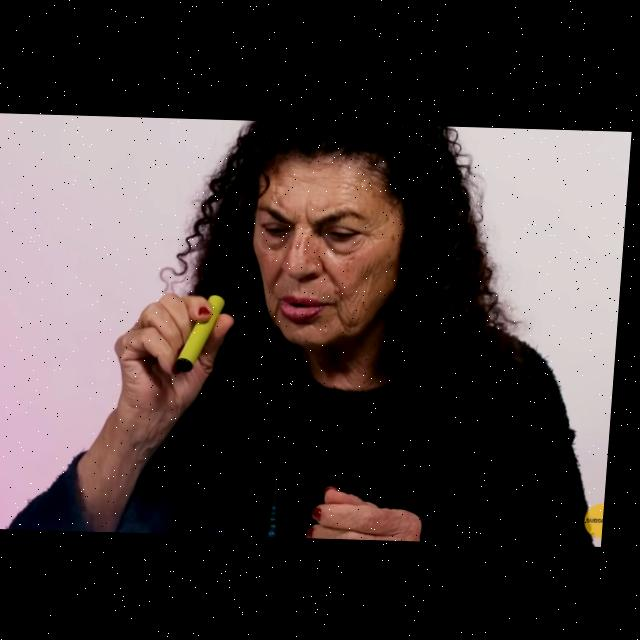vape: (180, 278, 237, 371)
